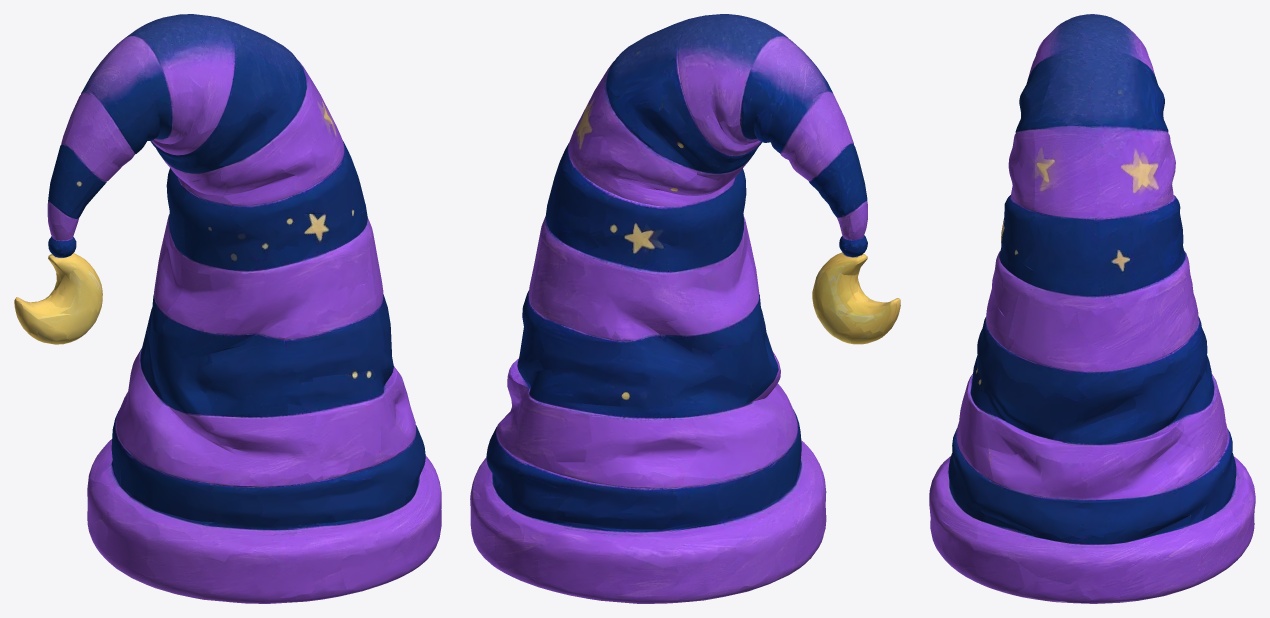
File: moon_nightcap.glb
3 renders of one model, left to right at view 1: azimuth 30°, elevation 25°; view 2: azimuth 150°, elevation 25°; view 3: azimuth 270°, elevation 25°, orthographic. The views are drawn at different scales.
Visible parts, largest first — view 1: Mesh_0; view 2: Mesh_0; view 3: Mesh_0.
Part boxes in pixels (x1,y1,x2,y2): Mesh_0: [14, 14, 441, 603]; Mesh_0: [470, 14, 900, 603]; Mesh_0: [929, 14, 1255, 603].
Size of the model in its own units: 0.7883 by 1 by 0.6156.
Materials: 1 (1 with a texture image).
